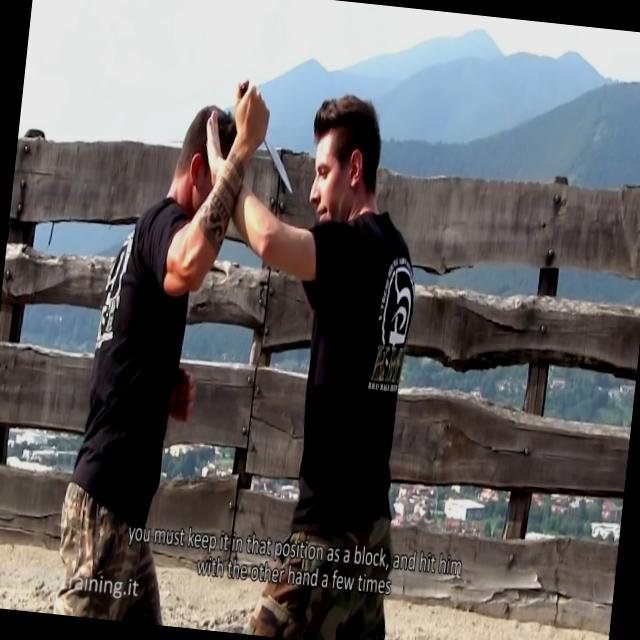knife: (222, 71, 306, 200)
